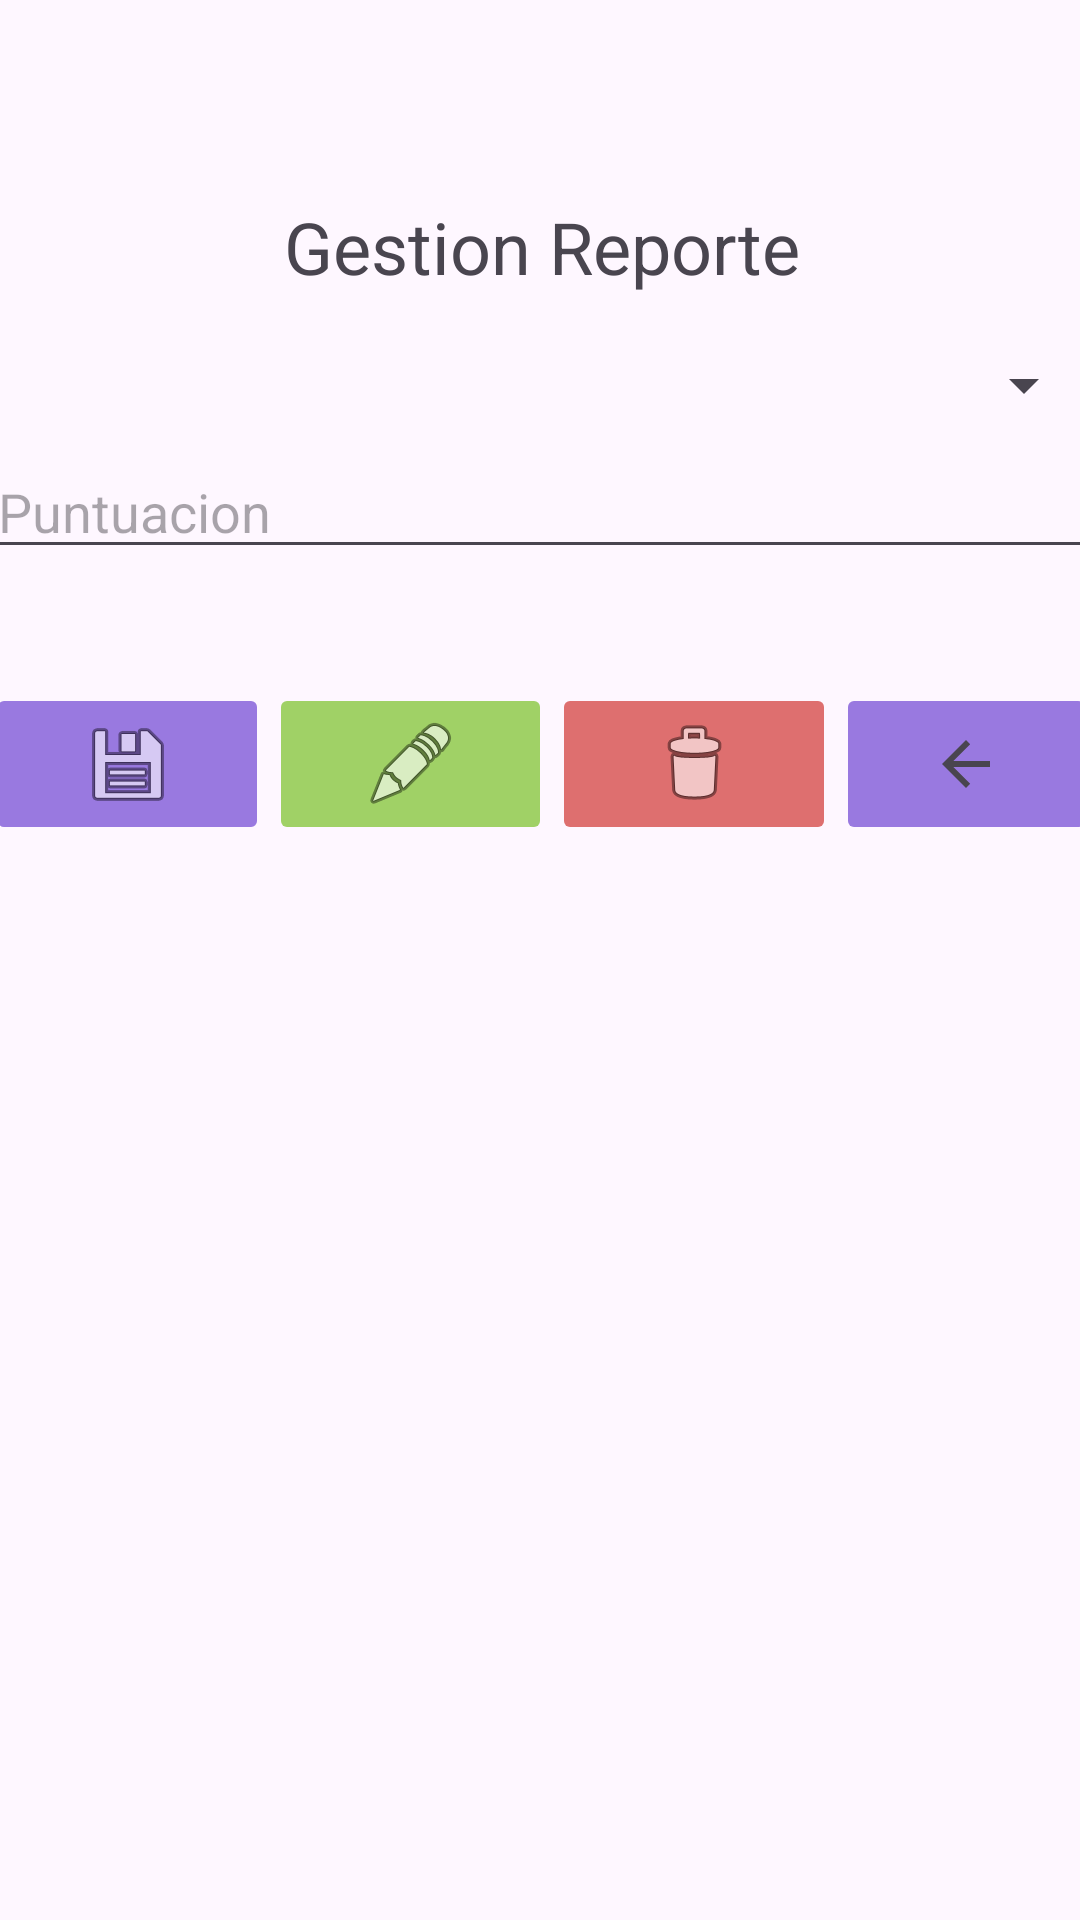

Icons on this 1080 x 1920 Android screen, each with the point to tap as [x,y]:
delete: [694,764]
edit: [410,764]
save: [128,764]
